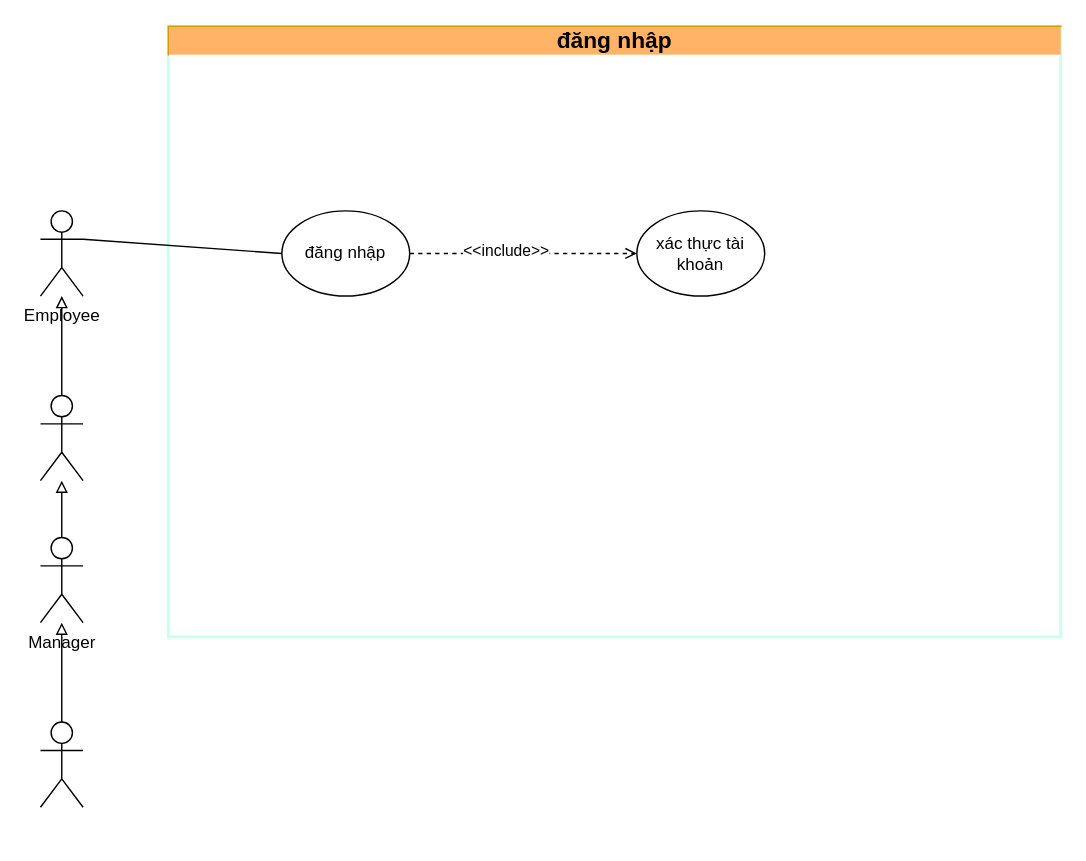
Image size: 1086x861. Some labels were removed from this diagram. The shapes that lost their labels are listed below. From the top down, each one's centre as x and y in pixels, then its label:
(61,437): HR
(61,764): Admin
